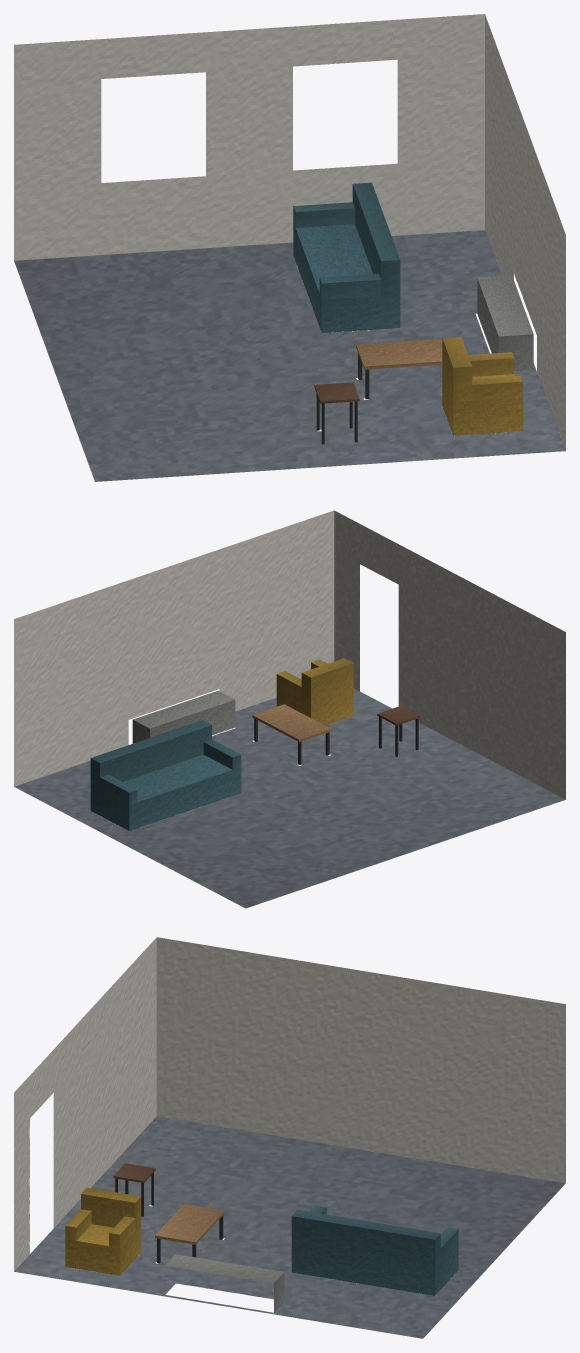
Rendered from fill-1.glb.
3 renders of one model, top to bottom at view 1: azimuth 30°, elevation 25°; view 2: azimuth 150°, elevation 25°; view 3: azimuth 270°, elevation 25°, orthographic. The views are drawn at different scales.
Parts seen in each view (by area): view 1: Floor, North wall, East wall, Sofa base, Bench, Sofa back, Armchair base, Sofa arms, Coffee table top, Armchair arms, Armchair back, Side table top (+1 smaller); view 2: East wall, Floor, South wall, Sofa base, Sofa back, Bench, Armchair back, Armchair base, Coffee table top, Sofa arms, Armchair arms, Side table top; view 3: West wall, Floor, South wall, Sofa back, Sofa base, Armchair base, Bench, Armchair back, Coffee table top, Armchair arms, Side table top, Sofa arms.
Part boxes in pixels (bbox=[...]): Floor: bbox=[14, 230, 565, 481]; North wall: bbox=[14, 14, 484, 260]; East wall: bbox=[485, 15, 565, 450]; Sofa base: bbox=[293, 222, 400, 332]; Bench: bbox=[477, 275, 533, 371]; Sofa back: bbox=[352, 182, 400, 295]; Armchair base: bbox=[442, 373, 522, 435]; Sofa arms: bbox=[293, 202, 380, 299]; Coffee table top: bbox=[356, 339, 442, 369]; Armchair arms: bbox=[468, 352, 522, 400]; Armchair back: bbox=[442, 337, 472, 402]; Side table top: bbox=[314, 382, 359, 403]; East wall: bbox=[14, 510, 334, 786]; Floor: bbox=[14, 688, 565, 908]; South wall: bbox=[334, 510, 565, 799]; Sofa base: bbox=[90, 754, 241, 830]; Sofa back: bbox=[90, 720, 211, 789]; Bench: bbox=[132, 690, 235, 743]; Armchair back: bbox=[301, 658, 353, 704]; Armchair base: bbox=[276, 678, 353, 725]; Coffee table top: bbox=[252, 704, 331, 742]; Sofa arms: bbox=[100, 739, 241, 804]; Armchair arms: bbox=[276, 659, 327, 699]; Side table top: bbox=[377, 705, 420, 725]; West wall: bbox=[156, 937, 565, 1182]; Floor: bbox=[14, 1116, 565, 1338]; South wall: bbox=[14, 938, 156, 1271]; Sofa back: bbox=[291, 1210, 440, 1267]; Sofa base: bbox=[291, 1243, 458, 1295]; Armchair base: bbox=[65, 1224, 141, 1275]; Bench: bbox=[165, 1254, 284, 1312]; Armchair back: bbox=[81, 1187, 141, 1230]; Coffee table top: bbox=[155, 1204, 224, 1244]; Armchair arms: bbox=[65, 1209, 135, 1247]; Side table top: bbox=[113, 1163, 155, 1182]; Sofa arms: bbox=[310, 1205, 458, 1261].
Bounding box in the file's own units: 7.2 × 2.7 × 7.55.
Materials: 17 (17 with a texture image).
